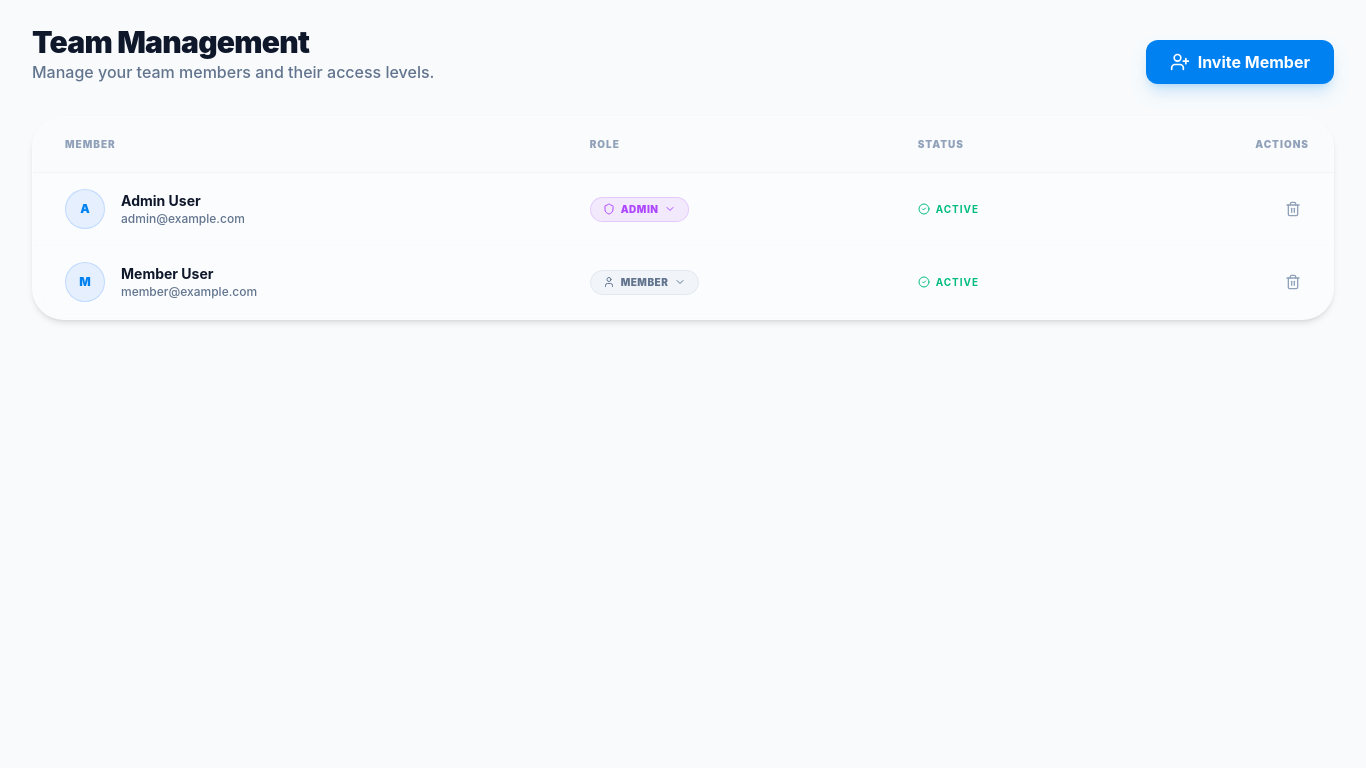
Scenario: UserManagement › should allow deleting a user
Expected: the text "Member User" is shown, [121,265,214,282]
Click the button titled "Remove Member" in the row of "Member User" at (1293, 282), box [1277,266,1309,298]
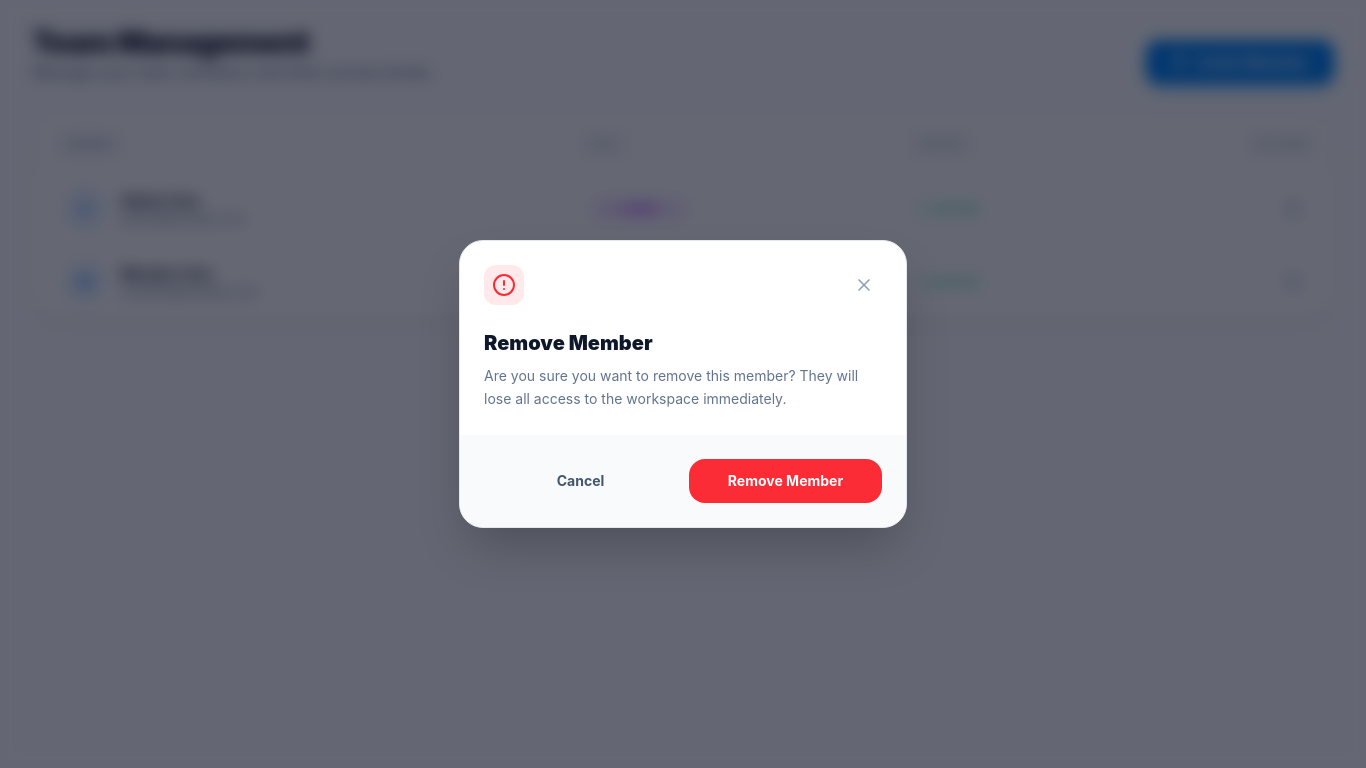
Expected: the text "Are you sure you want to remove this member" is shown, [484,367,858,407]
// Use a more specific selector for the confirm button in the modal
Click the button "Remove Member" at (786, 481), box [689,459,882,503]
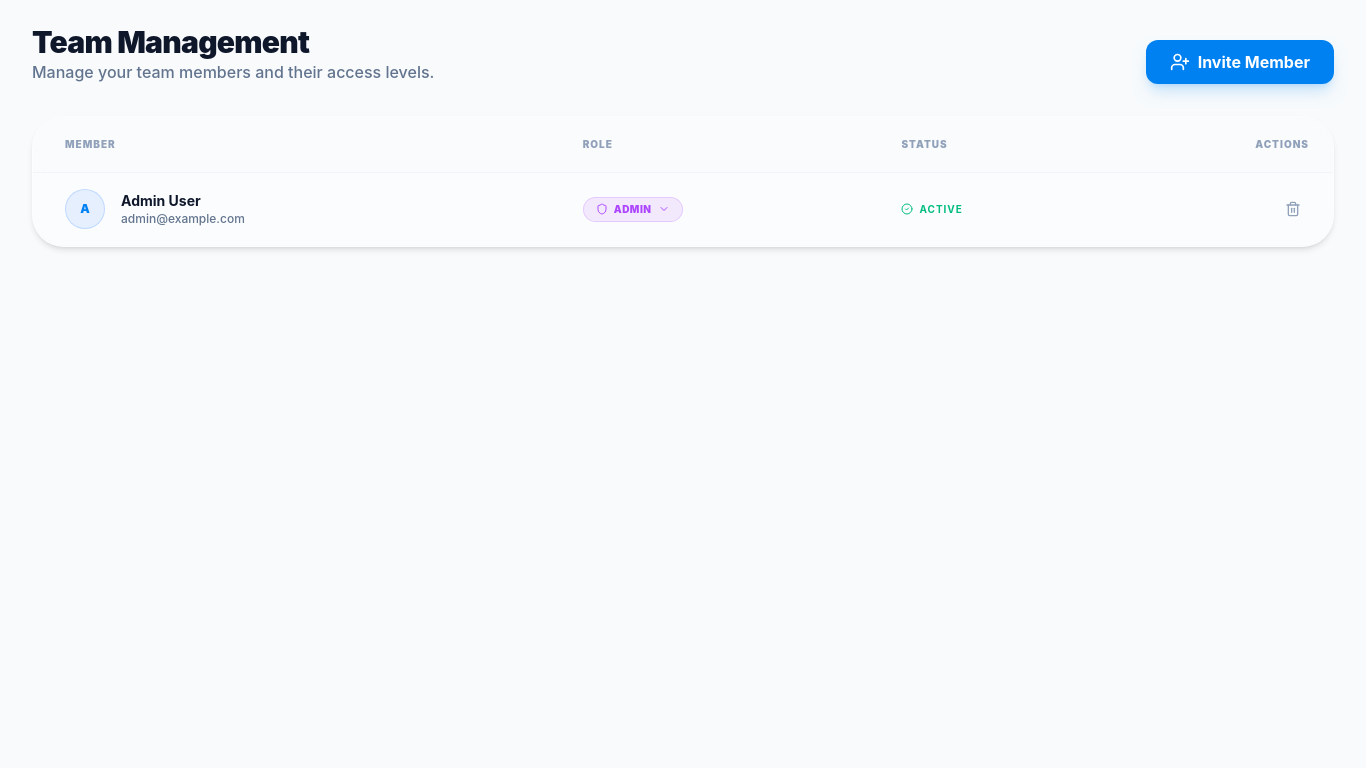
Expected: the text "member@example.com" is gone
